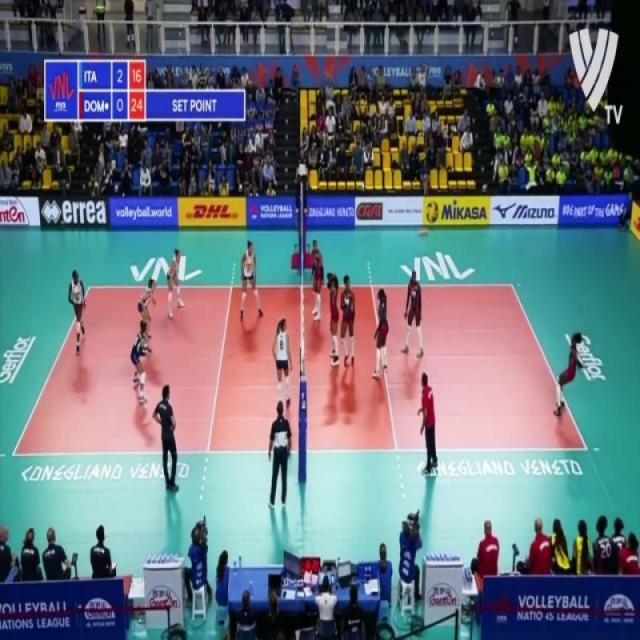volleyball: (426, 200, 438, 222), (416, 229, 428, 238)
